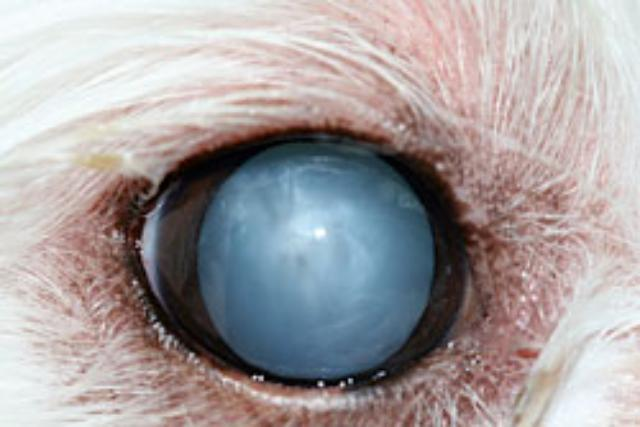eye: (192, 138, 436, 380)
